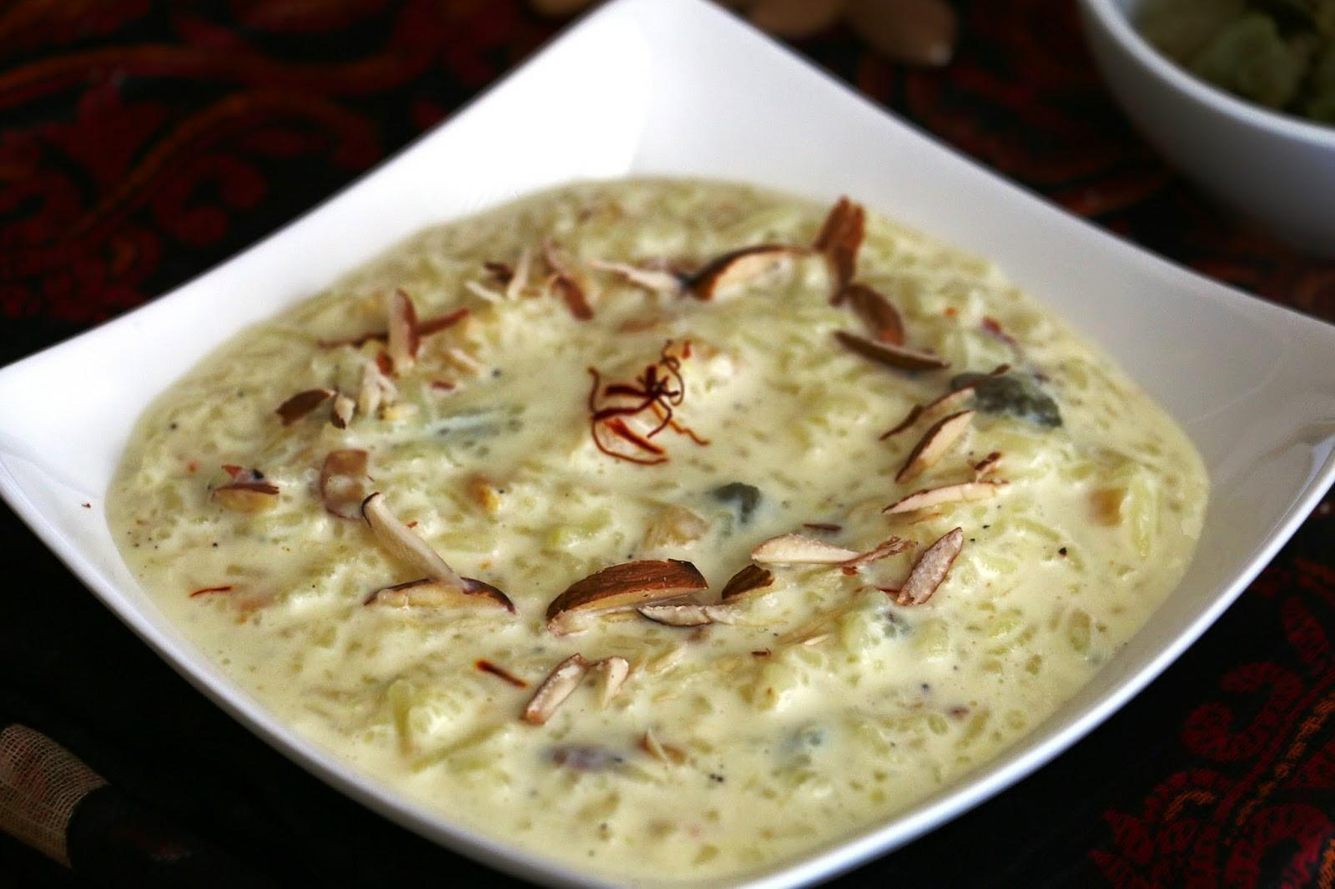Kheer: (107, 178, 1207, 889)
